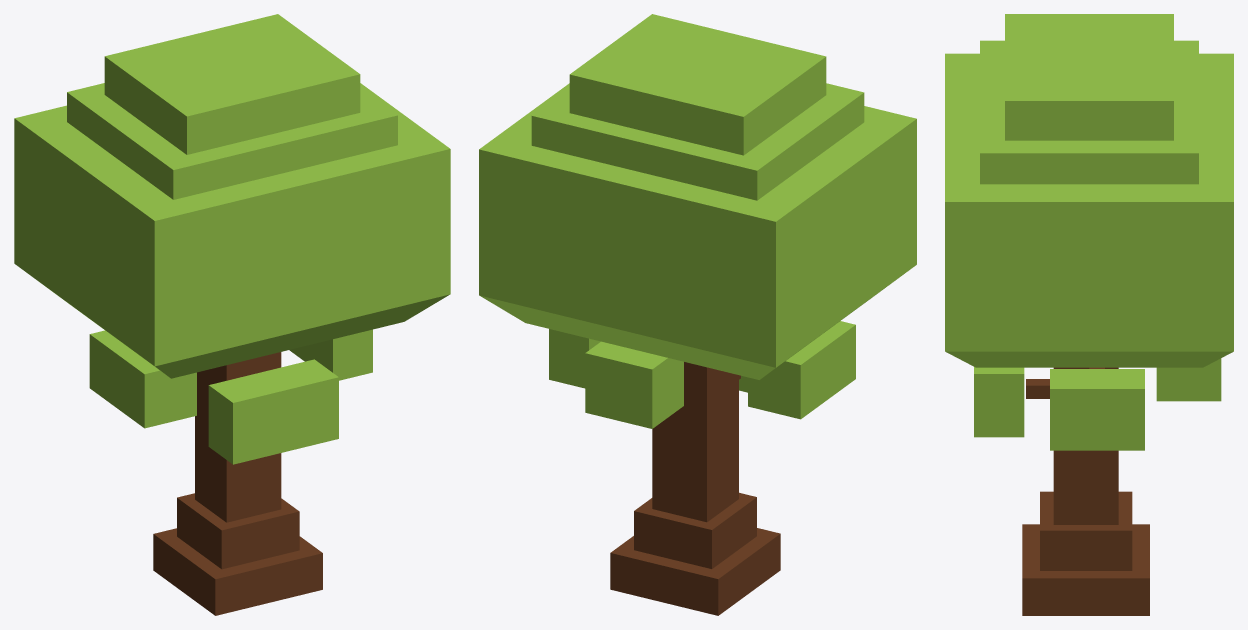
Rendered from tree3.fbx.
The picture shows the model from 3 angles, left to right: view 1: azimuth 30°, elevation 25°; view 2: azimuth 150°, elevation 25°; view 3: azimuth 270°, elevation 25°; orthographic projection. The views are drawn at different scales.
Parts seen in each view (by area): view 1: Tree; view 2: Tree; view 3: Tree.
Part boxes in pixels (x1,y1,x2,y2): Tree: (14,14,450,615); Tree: (479,14,916,615); Tree: (945,14,1233,615).
Size of the model in its own units: 761 by 1265 by 626.
